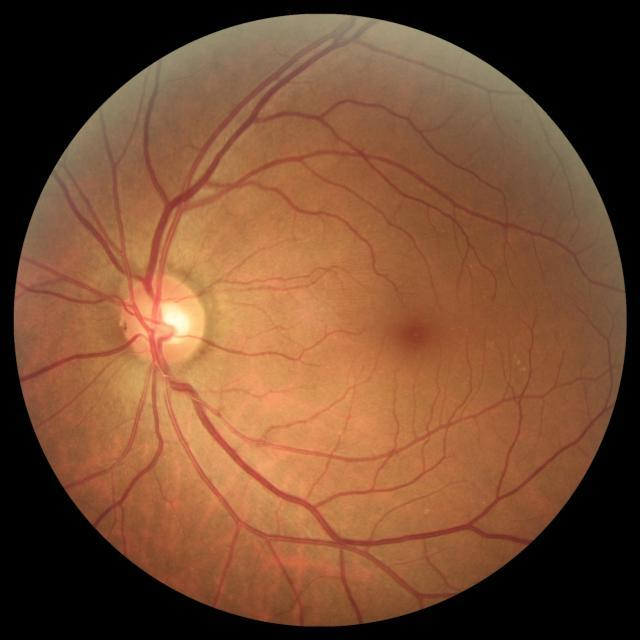OC: (148, 300, 188, 342)
OD: (122, 276, 205, 366)
